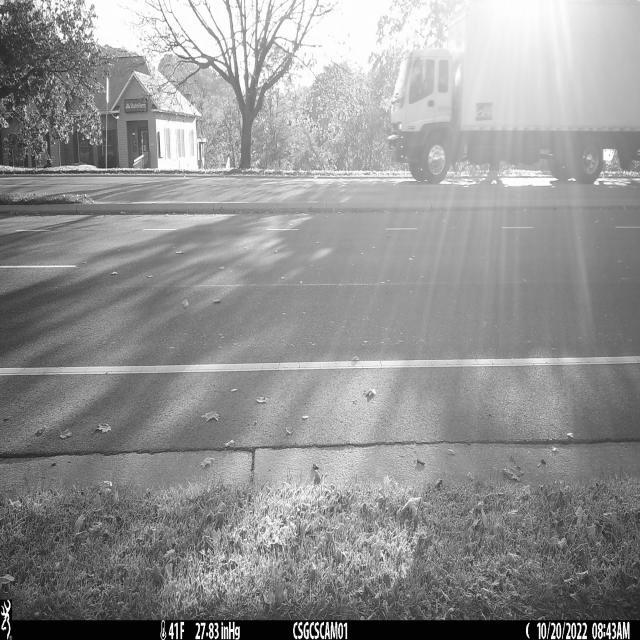Box Truck: (388, 0, 640, 185)
